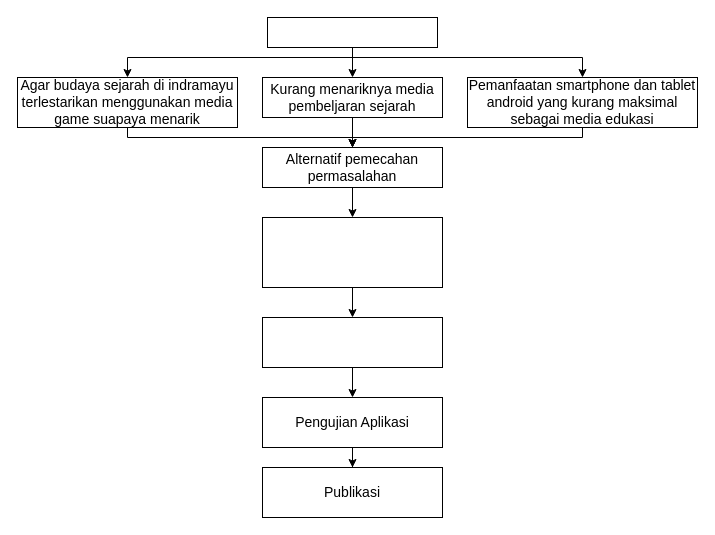
This 715x535 diagram has some shape labels left out. The box of each missing label's shape, as (x1, y1, x2, y2) in pixels:
Membuat media ifnormasi yang menarik menggunakan media game platform: (262, 216, 442, 288)
Muncul permasalahan: (266, 16, 438, 48)
Proses pengembangan software: (262, 316, 442, 368)
